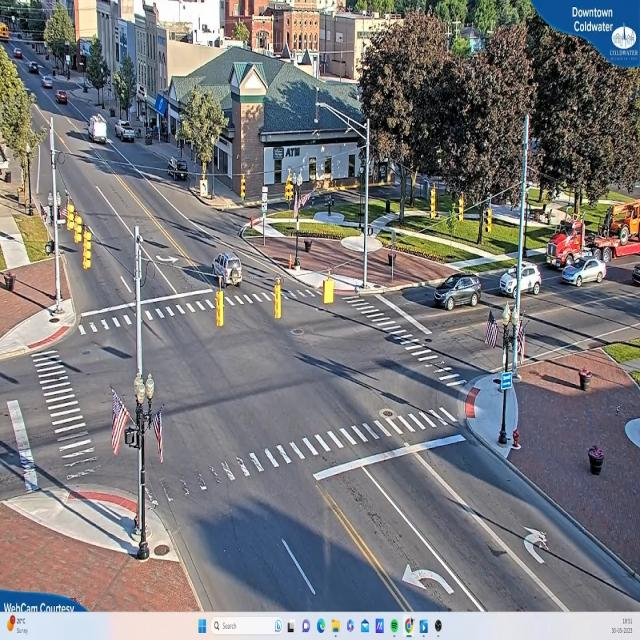car: (432, 275, 482, 312), (497, 263, 542, 296), (209, 249, 244, 288), (561, 258, 606, 288), (121, 128, 137, 142), (56, 92, 68, 104), (44, 79, 55, 90), (29, 62, 40, 73)
